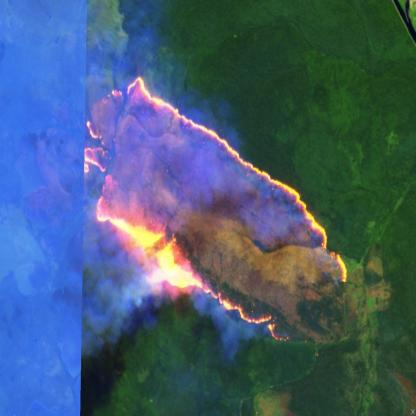fire: (56, 74, 351, 350)
